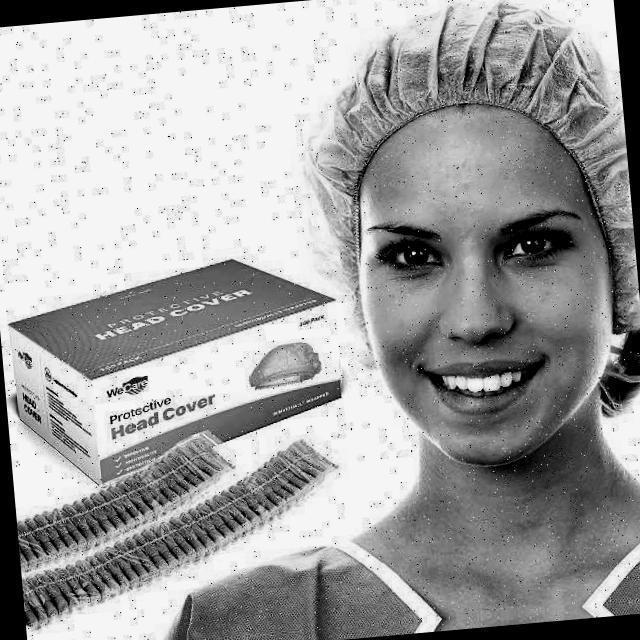gloves: (306, 0, 640, 222)
no_hairnet: (392, 278, 544, 424)
